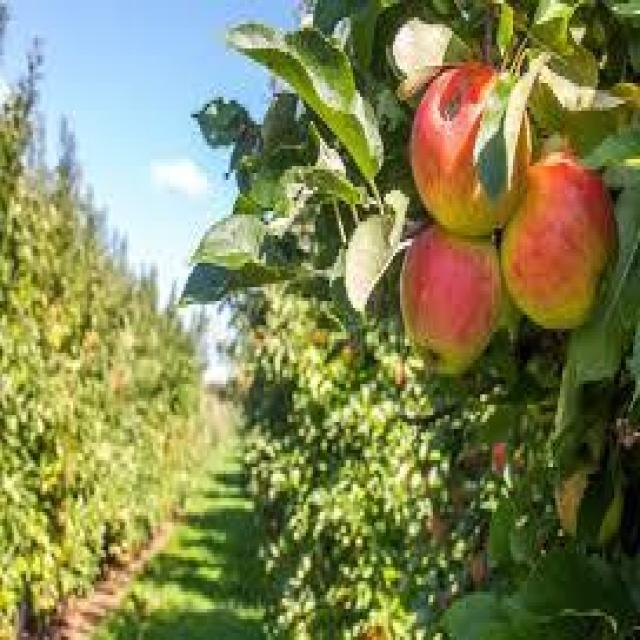fruit: (407, 56, 536, 236), (500, 152, 614, 328), (400, 222, 503, 372)
